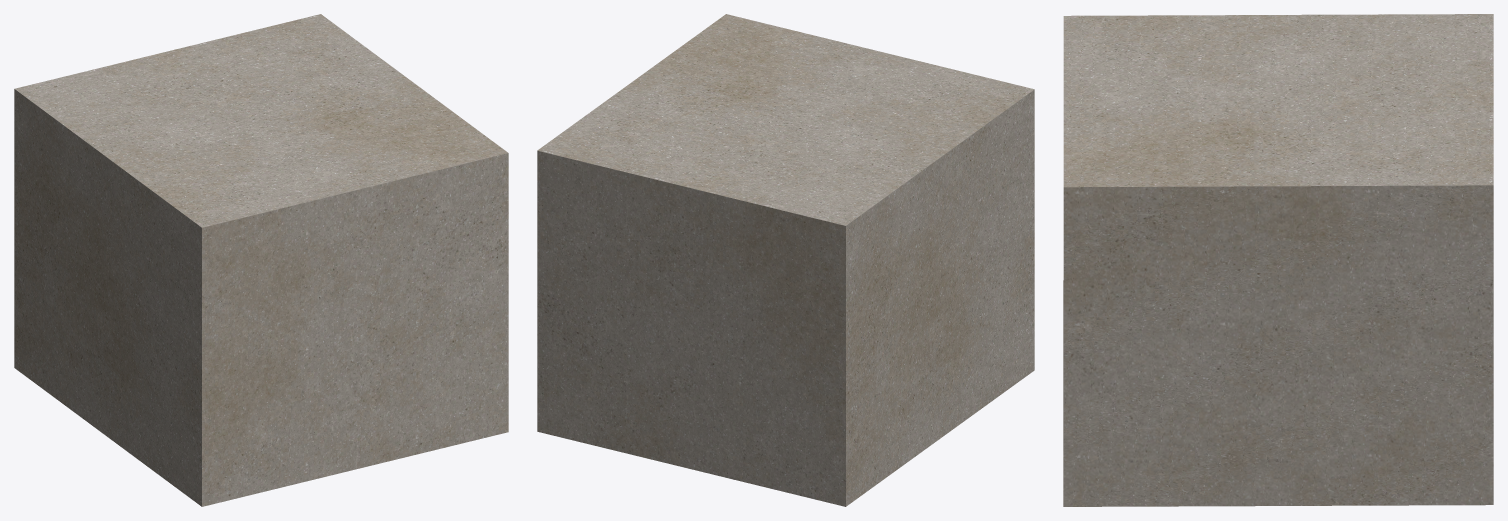
File: SM_GCM_WallStone03A.fbx
3 renders of one model, left to right at view 1: azimuth 30°, elevation 25°; view 2: azimuth 150°, elevation 25°; view 3: azimuth 270°, elevation 25°, orthographic. The views are drawn at different scales.
Parts seen in each view (by area): view 1: SM_GCM_WallStone03A; view 2: SM_GCM_WallStone03A; view 3: SM_GCM_WallStone03A.
Boxes of the visible parts, x1,y1,x2,y2 form: SM_GCM_WallStone03A: [14, 14, 508, 506]; SM_GCM_WallStone03A: [537, 14, 1034, 506]; SM_GCM_WallStone03A: [1063, 14, 1493, 506].
Size of the model in its own units: 43.88 by 38.4 by 46.53.
1 material, 1 textured.
